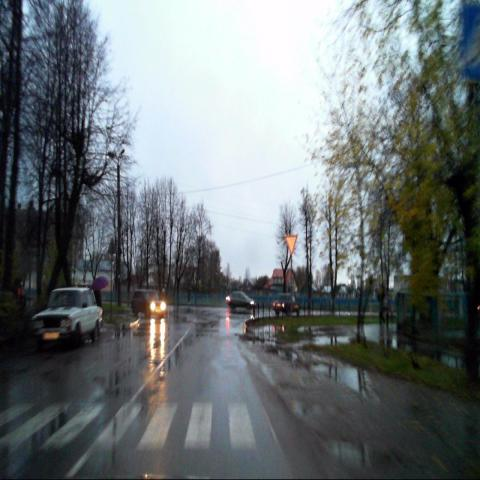2_4: (284, 234, 298, 255)
